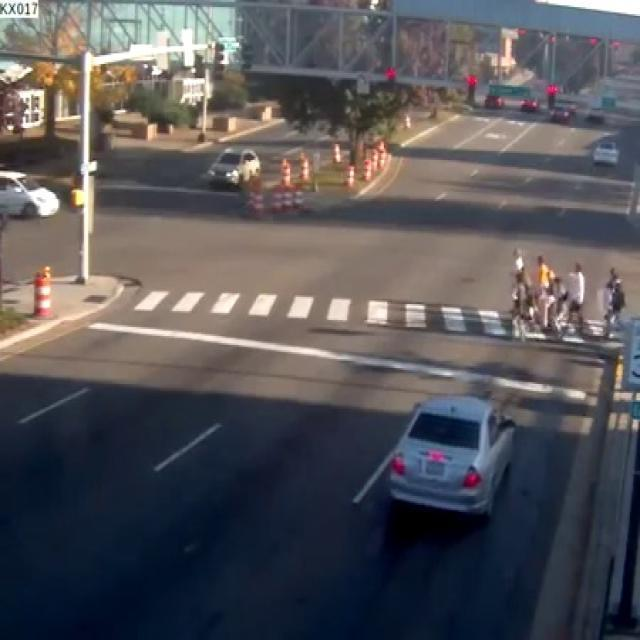car: (388, 395, 512, 513), (0, 169, 57, 214), (203, 146, 259, 184), (590, 139, 617, 164)
red_light: (463, 71, 476, 103), (544, 79, 557, 105), (382, 64, 396, 80)
stop_line: (88, 320, 586, 400)
